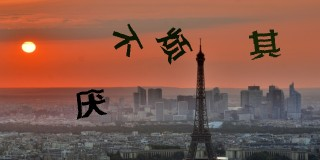不: (112, 24, 143, 57)
其: (249, 29, 283, 60)
厌: (75, 89, 108, 120)
烦: (155, 26, 193, 65)
